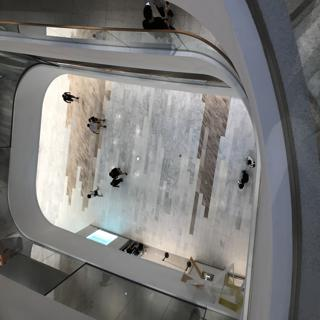person: (81, 112, 114, 136), (77, 186, 110, 208), (107, 165, 133, 185)
